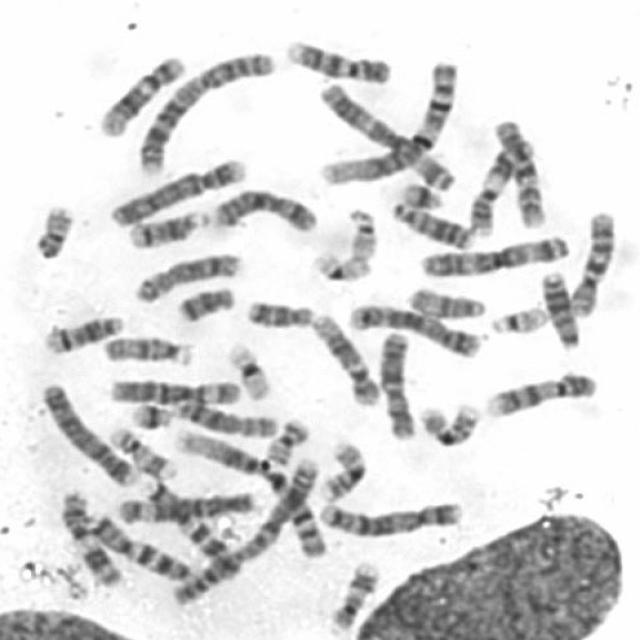A1: (172, 426, 328, 560), (315, 57, 459, 192)
A2: (164, 454, 324, 606), (133, 48, 276, 177)
A3: (318, 79, 456, 193), (414, 230, 570, 278)
B4: (37, 379, 138, 488), (103, 154, 248, 229)
B5: (344, 300, 482, 358), (315, 496, 463, 538)
C10: (490, 117, 552, 233), (564, 207, 618, 318)
C11: (464, 136, 537, 241), (57, 487, 125, 589)
C12: (94, 50, 186, 138), (307, 310, 381, 408)
C6: (111, 486, 261, 526), (104, 374, 244, 407)
C7: (142, 476, 244, 581), (78, 510, 194, 584)
C8: (129, 248, 244, 306), (170, 395, 279, 439)
C9: (479, 366, 600, 419), (281, 36, 394, 87)
D13: (388, 198, 475, 250), (538, 268, 581, 350)
D14: (37, 311, 126, 356), (124, 205, 211, 249)
D15: (100, 333, 198, 366), (404, 283, 486, 321)
E16: (315, 438, 368, 502), (416, 398, 482, 447)
E17: (324, 557, 382, 634), (104, 423, 177, 482)
E18: (173, 281, 237, 325), (240, 296, 315, 330)
F19: (223, 338, 275, 402), (308, 247, 374, 282)
F20: (30, 202, 76, 260), (262, 414, 311, 466)
G21: (126, 398, 176, 430), (398, 178, 445, 210)
G22: (485, 303, 551, 335), (345, 204, 378, 259)
X: (208, 183, 320, 234), (374, 328, 417, 440)
